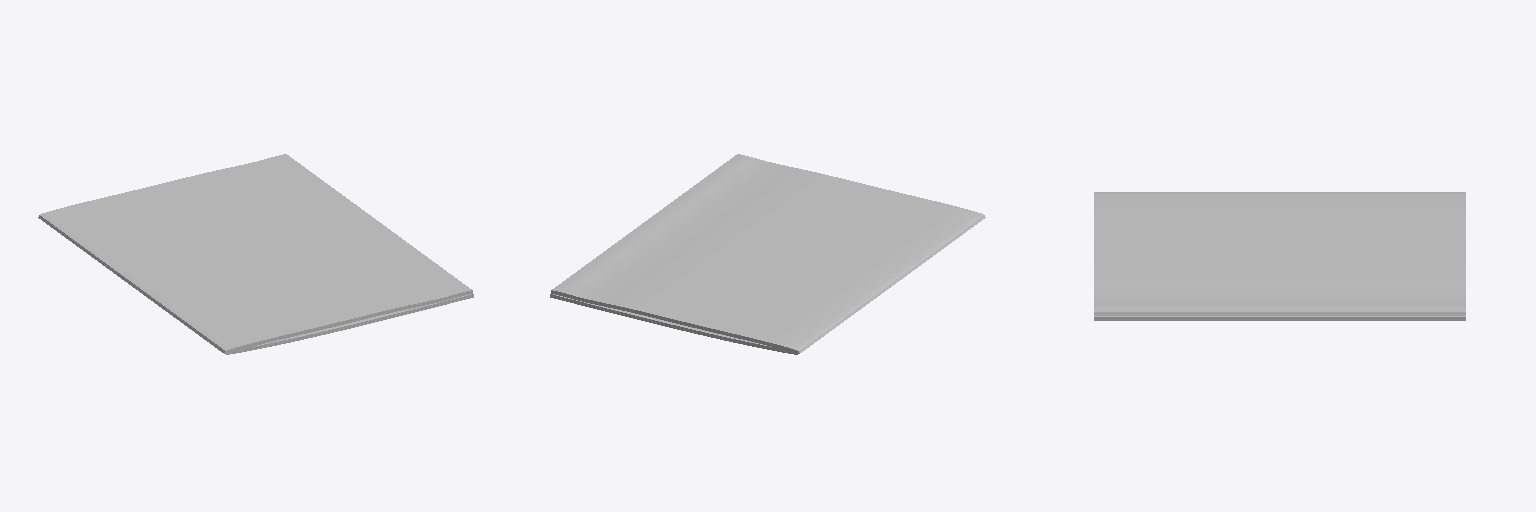
File: Magazine_Closed_Fixed.obj
3 renders of one model, left to right at view 1: azimuth 30°, elevation 25°; view 2: azimuth 150°, elevation 25°; view 3: azimuth 270°, elevation 25°, orthographic.
Parts seen in each view (by area): view 1: Magazine_Closed; view 2: Magazine_Closed; view 3: Magazine_Closed.
Boxes of the visible parts, x1,y1,x2,y2 form: Magazine_Closed: [38, 154, 473, 354]; Magazine_Closed: [550, 154, 985, 354]; Magazine_Closed: [1094, 192, 1465, 320].
Size of the model in its own units: 3.3 by 0.1204 by 4.27.